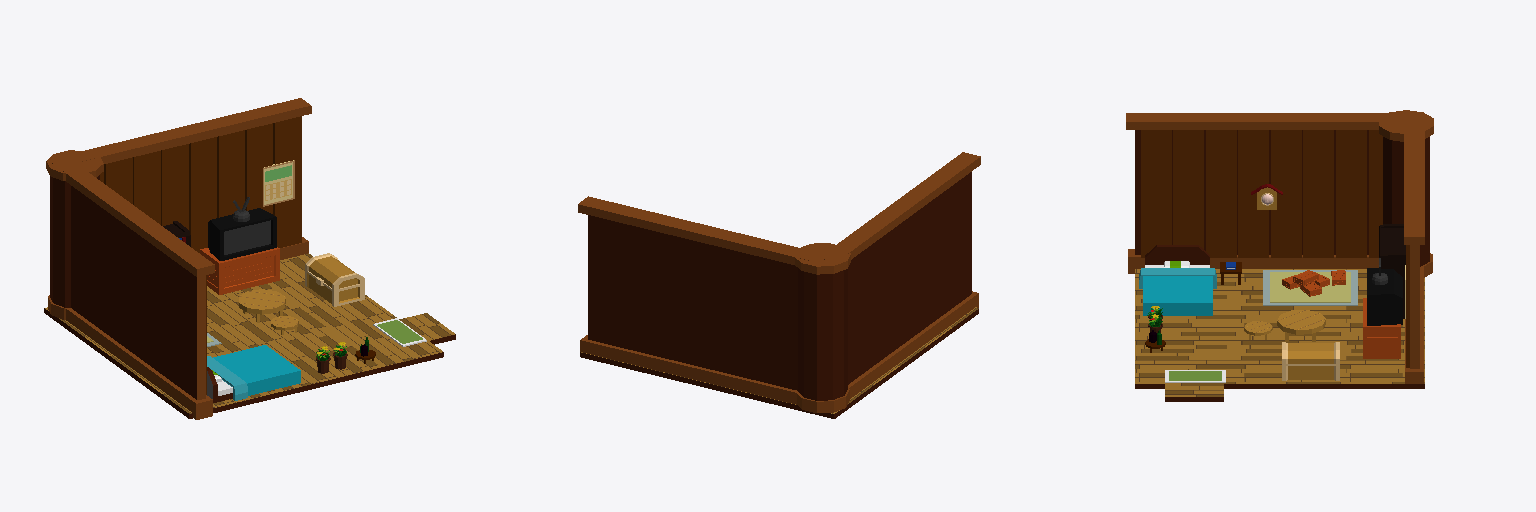
The picture shows the model from 3 angles: view 1: azimuth 30°, elevation 25°; view 2: azimuth 150°, elevation 25°; view 3: azimuth 270°, elevation 25°; orthographic projection.
Parts seen in each view (by area): view 1: room_harvest_moon pCube3, room_harvest_moon pCube12, room_harvest_moon pCube4, room_harvest_moon pCylinder7, room_harvest_moon polySurface2, room_harvest_moon pCube40, room_harvest_moon pCube8, room_harvest_moon pCube43, room_harvest_moon box5, room_harvest_moon pCube41, room_harvest_moon pCube45, room_harvest_moon pCube39 (+7 smaller); view 2: room_harvest_moon pCube4, room_harvest_moon pCube3, room_harvest_moon pCylinder7, room_harvest_moon pCube12; view 3: room_harvest_moon pCube12, room_harvest_moon pCube3, room_harvest_moon pCube4, room_harvest_moon pCube34, room_harvest_moon pCube33, room_harvest_moon pCube30, room_harvest_moon pCube32, room_harvest_moon pCube28, room_harvest_moon pCube31, room_harvest_moon pCube29, room_harvest_moon polySurface2, room_harvest_moon pCylinder7 (+10 smaller).
Part boxes in pixels (x1,y1,x2,y2): room_harvest_moon pCube3: (52, 160, 214, 419); room_harvest_moon pCube12: (44, 253, 455, 418); room_harvest_moon pCube4: (60, 98, 311, 259); room_harvest_moon pCylinder7: (46, 150, 103, 319); room_harvest_moon polySurface2: (207, 345, 300, 400); room_harvest_moon pCube40: (189, 137, 216, 252); room_harvest_moon pCube8: (208, 208, 276, 260); room_harvest_moon pCube43: (273, 116, 301, 247); room_harvest_moon box5: (200, 247, 279, 294); room_harvest_moon pCube41: (217, 130, 244, 217); room_harvest_moon pCube45: (305, 253, 364, 306); room_harvest_moon pCube39: (161, 144, 188, 229); room_harvest_moon pCube4: (578, 196, 824, 404); room_harvest_moon pCube3: (819, 152, 980, 398); room_harvest_moon pCylinder7: (795, 243, 850, 412); room_harvest_moon pCube12: (580, 307, 978, 418); room_harvest_moon pCube12: (1135, 269, 1424, 401); room_harvest_moon pCube3: (1126, 113, 1414, 273); room_harvest_moon pCube4: (1404, 119, 1424, 383); room_harvest_moon pCube34: (1336, 130, 1366, 257); room_harvest_moon pCube33: (1303, 130, 1333, 257); room_harvest_moon pCube30: (1206, 130, 1236, 257); room_harvest_moon pCube32: (1271, 130, 1301, 257); room_harvest_moon pCube28: (1141, 130, 1171, 257); room_harvest_moon pCube31: (1238, 130, 1268, 257); room_harvest_moon pCube29: (1173, 130, 1203, 248); room_harvest_moon polySurface2: (1139, 268, 1216, 315); room_harvest_moon pCylinder7: (1379, 110, 1433, 277).
Size of the model in its own units: 25.74 by 13.16 by 24.04.
Materials: 34 (3 with a texture image).